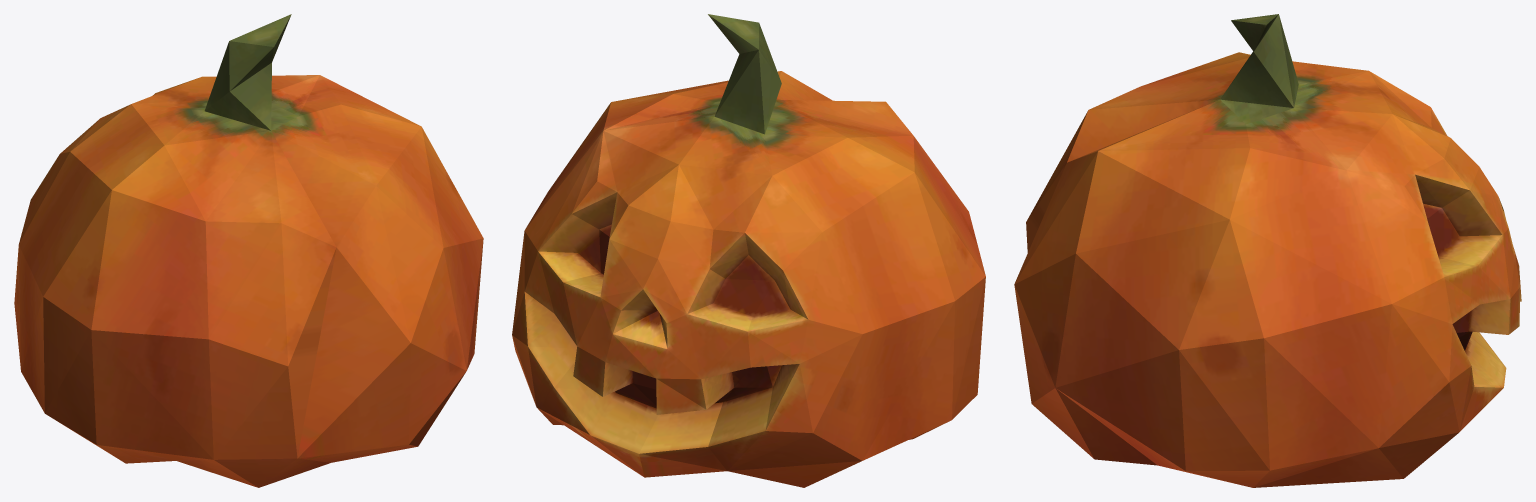
The model's file is item_pumpkinjack.glb.
3 renders of one model, left to right at view 1: azimuth 30°, elevation 25°; view 2: azimuth 150°, elevation 25°; view 3: azimuth 270°, elevation 25°, orthographic. The views are drawn at different scales.
Parts seen in each view (by area): view 1: pumpkin_01; view 2: pumpkin_01; view 3: pumpkin_01.
Boxes of the visible parts, left/top/right/bottom form: pumpkin_01: left=14, top=14, right=483, bottom=487; pumpkin_01: left=512, top=14, right=985, bottom=487; pumpkin_01: left=1014, top=14, right=1521, bottom=487.
Size of the model in its own units: 0.501 by 0.4627 by 0.5053.
Materials: 1 (1 with a texture image).
